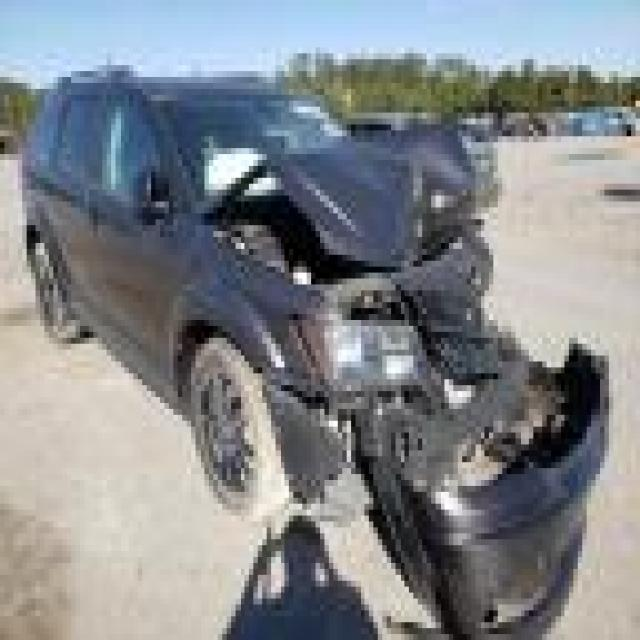severe: (186, 118, 635, 640)
